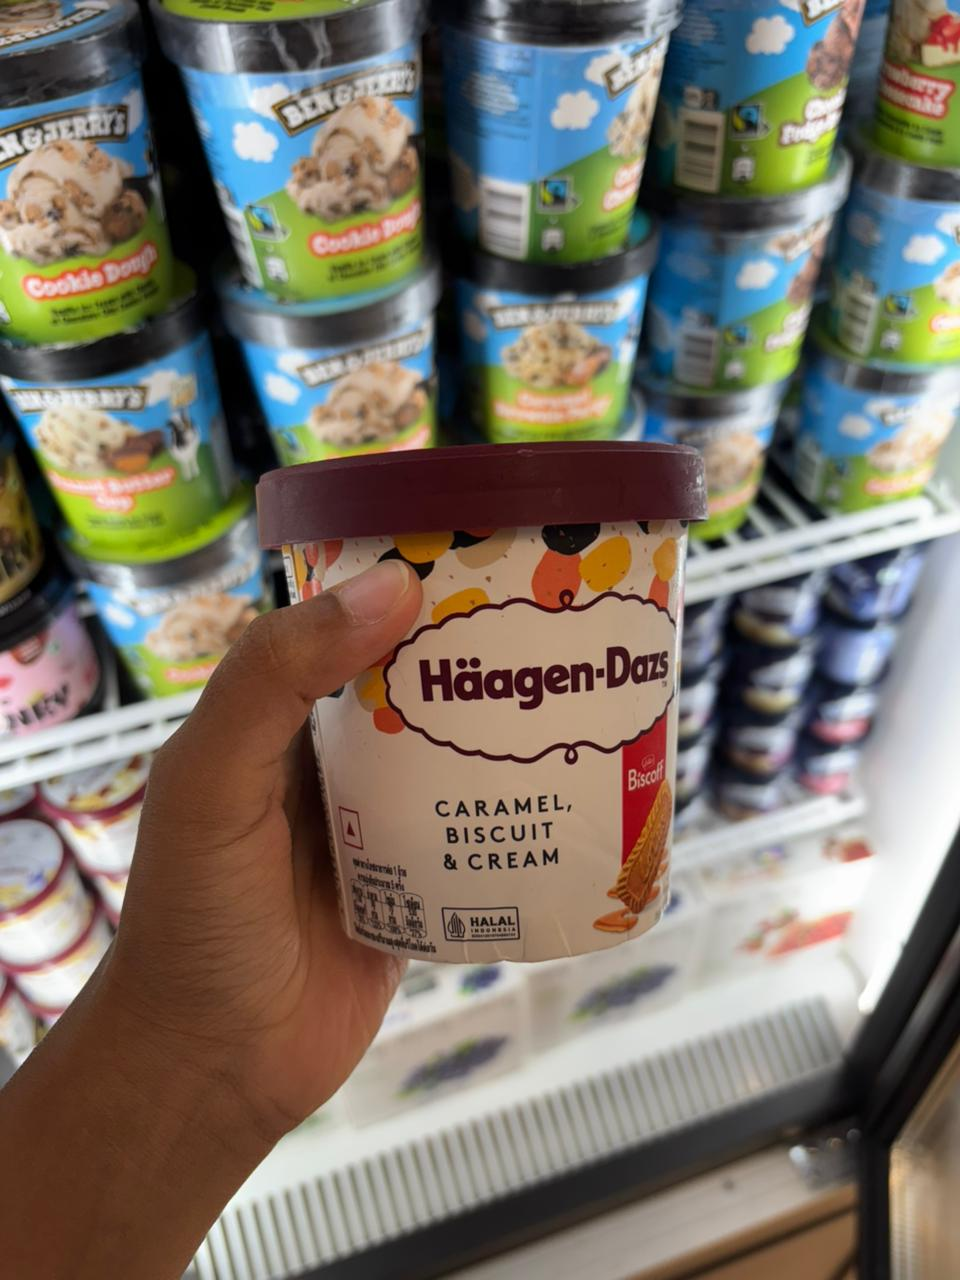Haagen-Dazs IceCream Tub: (235, 428, 728, 1004)
